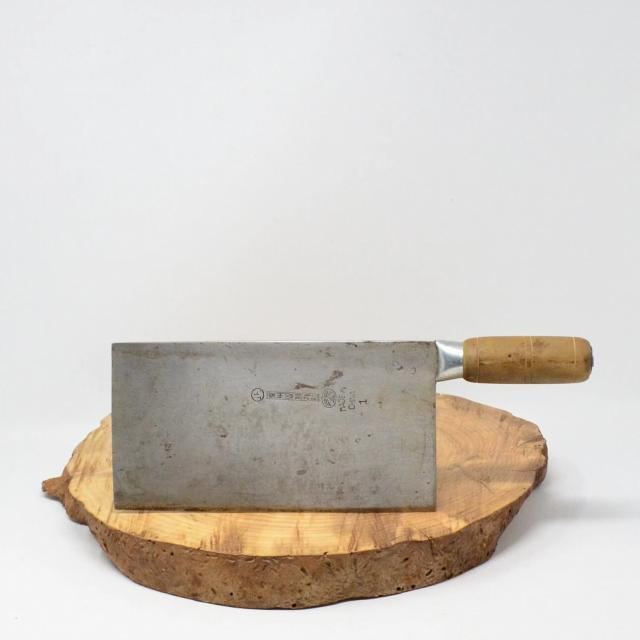cleaver: (112, 331, 589, 511)
